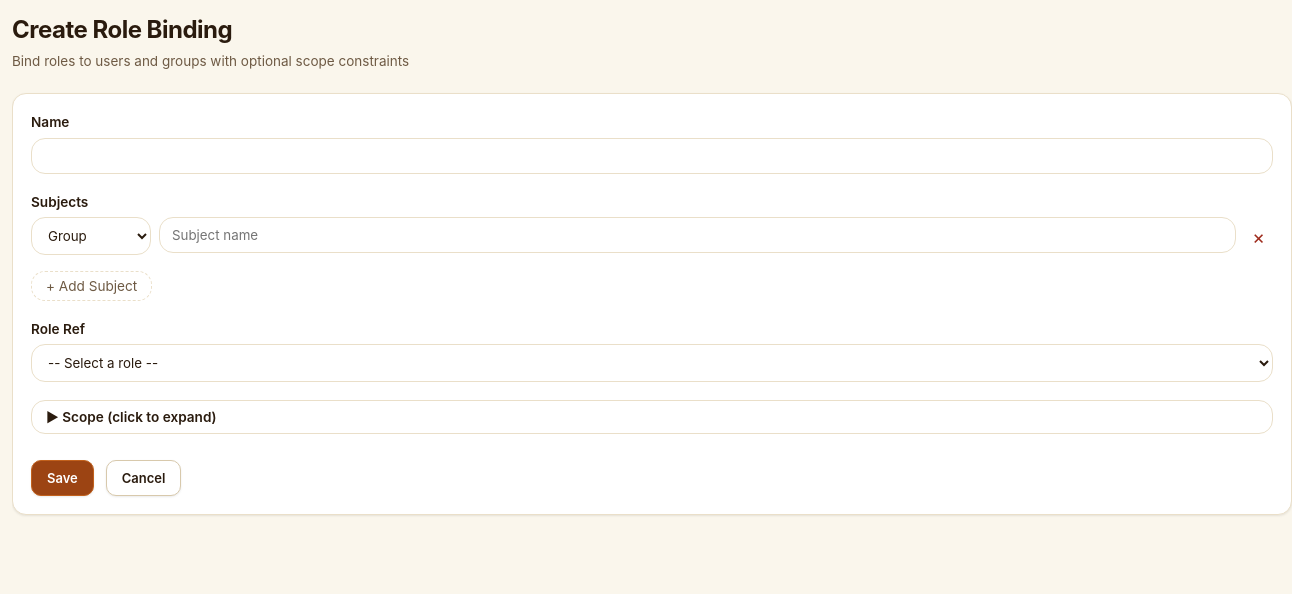
Test: RoleBindingForm — create mode › shows error on create failure
Check: the text "Create Role Binding" is shown, box [12,15,232,44]
Type "fail-binding" into the 1st field at (652, 156), box [31,138,1273,174]
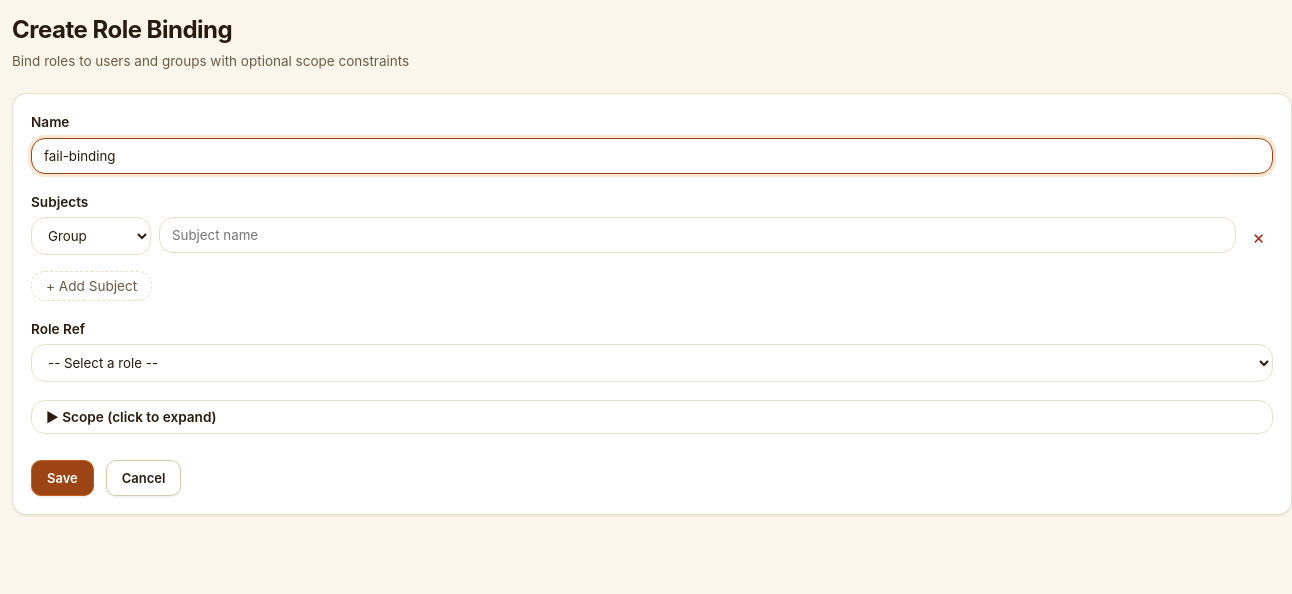
Fill required fields so form submits
Type "test-user" into the field with placeholder "Subject name" at (698, 235), box [159,217,1236,253]
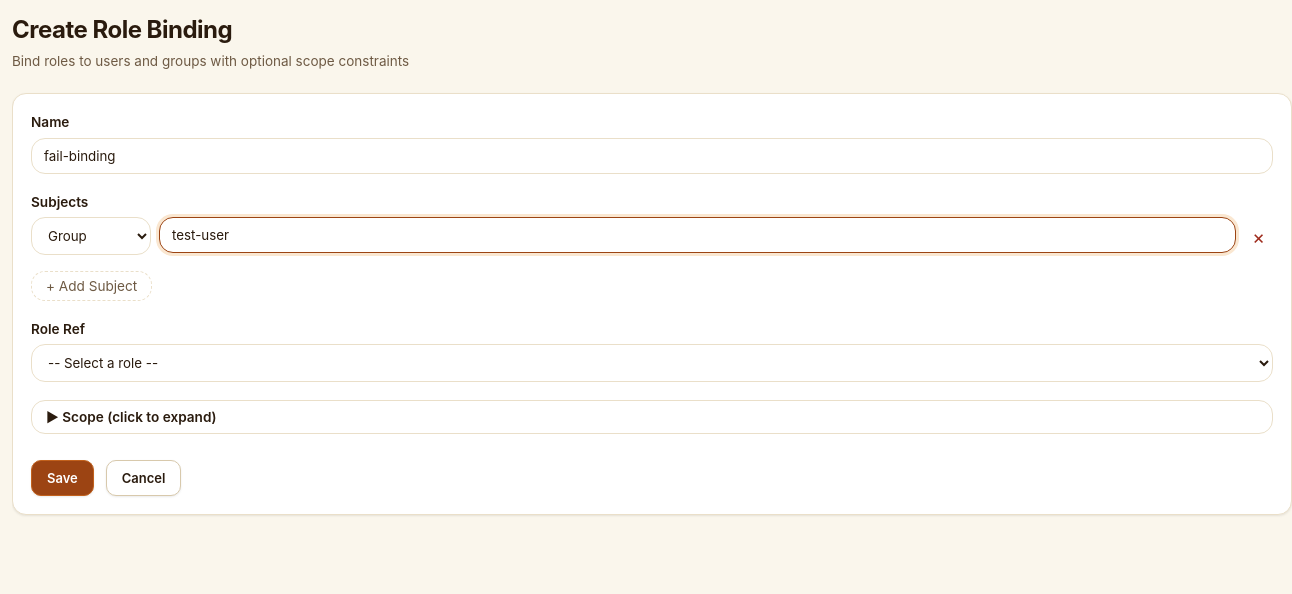
Select "varroa:admin" in the dropdown below "Role Ref" at (652, 363), box [31,344,1273,382]
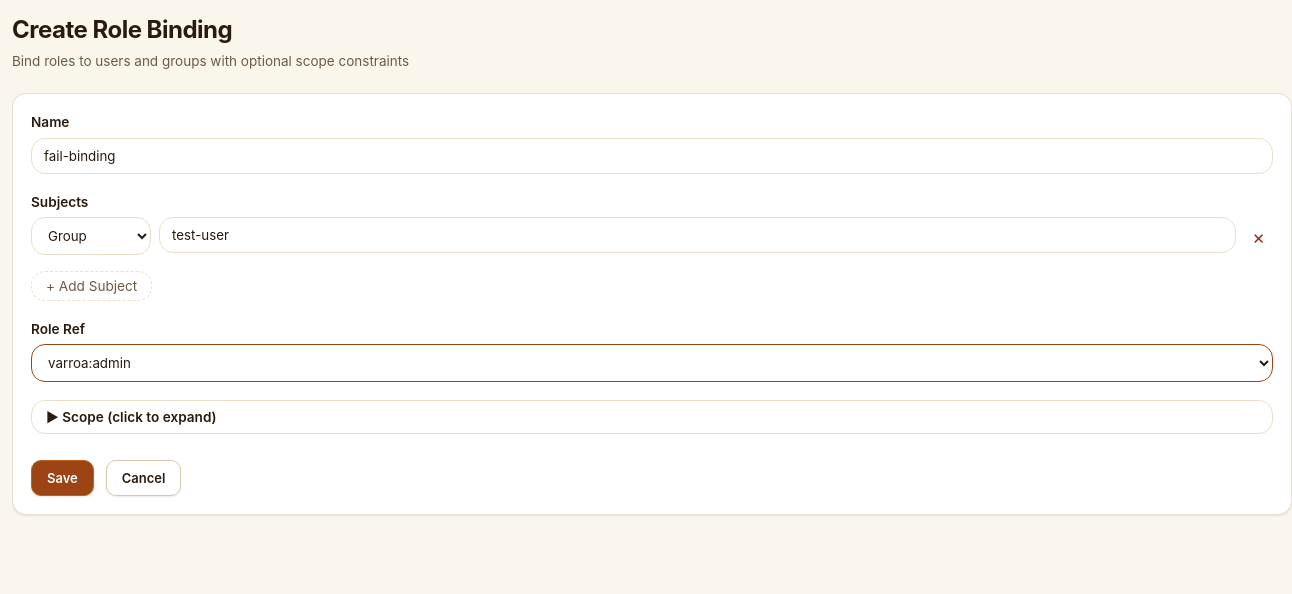
Click the button "Save" at (62, 478), box [31,460,94,496]
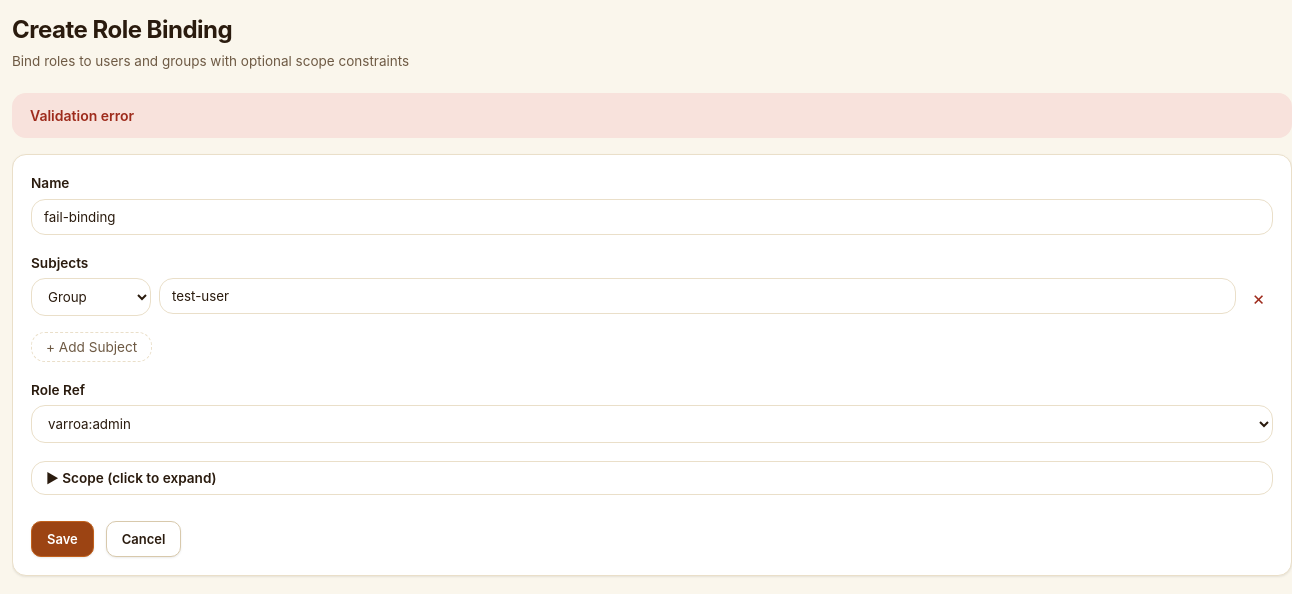
Check: the text "Validation error" is shown, box [12,93,1291,138]
